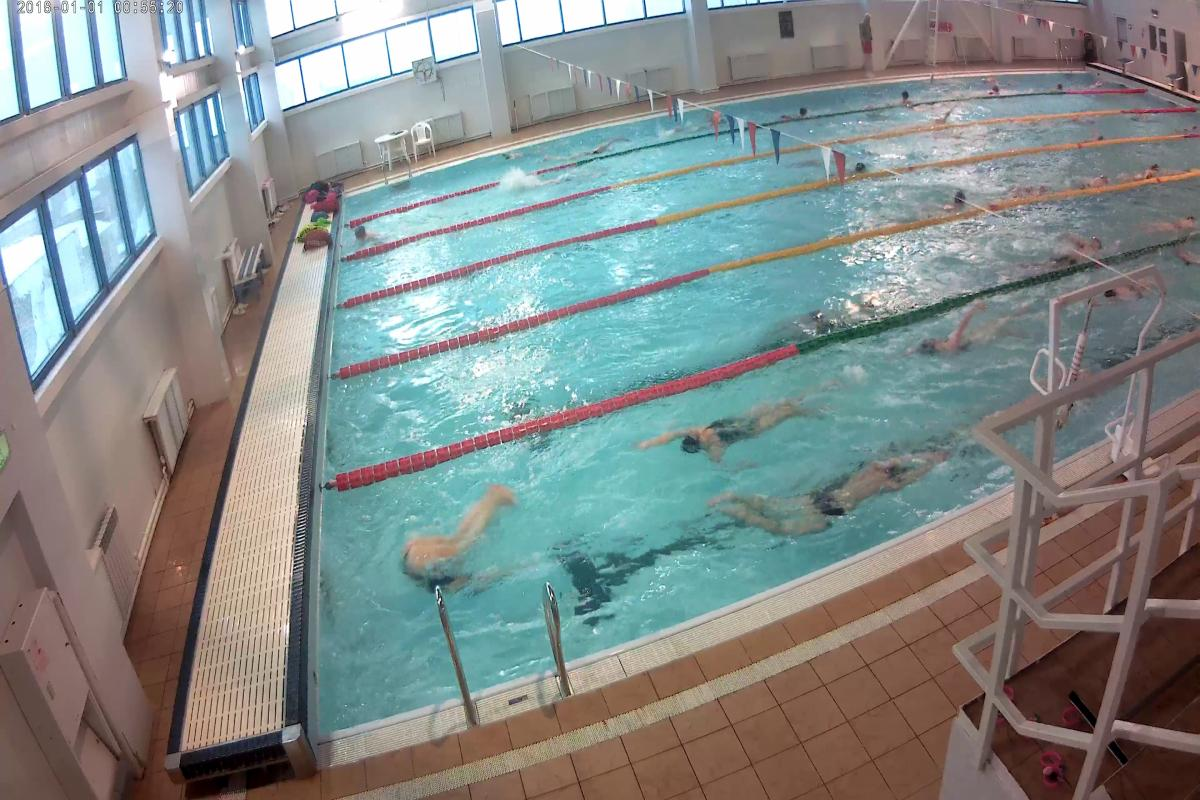swimmer: (625, 391, 810, 468), (400, 479, 518, 590), (728, 457, 913, 522), (906, 309, 1005, 364), (1023, 224, 1107, 270), (1144, 206, 1198, 236), (1106, 281, 1150, 305), (346, 221, 384, 247), (940, 186, 972, 214), (1076, 168, 1110, 186), (846, 160, 868, 176)
